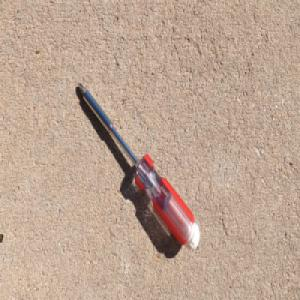Screwdriver: (77, 80, 201, 252)
